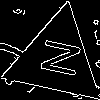N: (31, 34, 82, 80)
